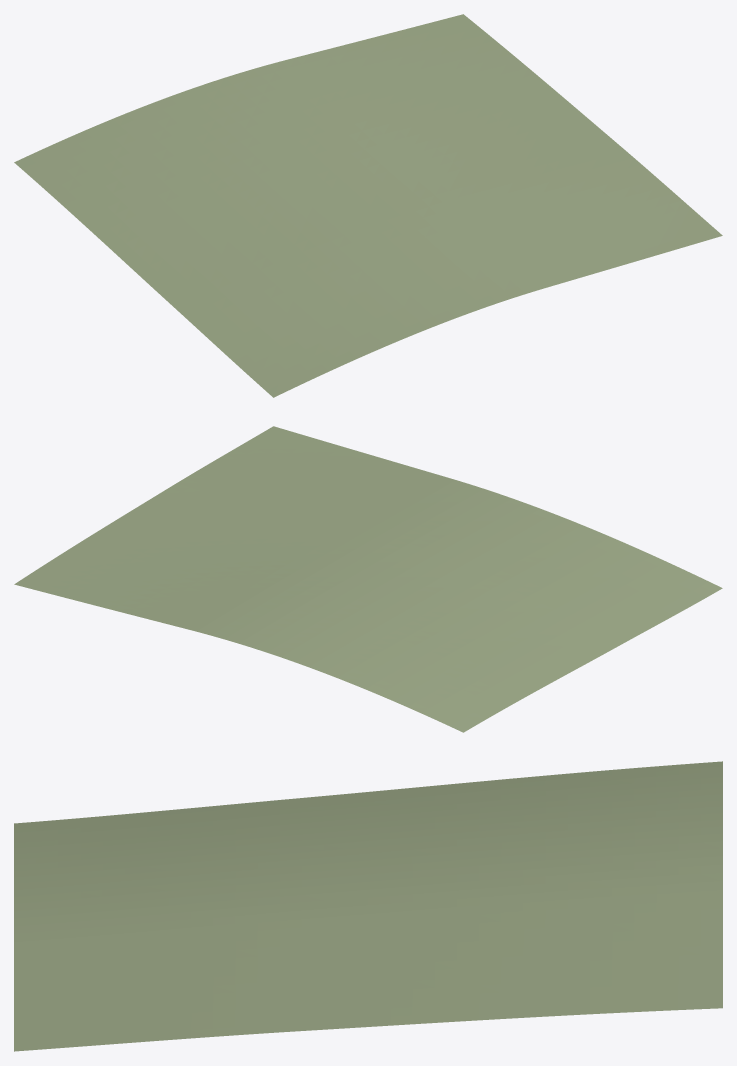
Rendered from desert-24-8.glb.
3 renders of one model, top to bottom at view 1: azimuth 30°, elevation 25°; view 2: azimuth 150°, elevation 25°; view 3: azimuth 270°, elevation 25°, orthographic. The views are drawn at different scales.
Visible parts, largest first — view 1: desert-24-8; view 2: desert-24-8; view 3: desert-24-8.
Boxes of the visible parts, left/top/right/bottom form: desert-24-8: left=14, top=14, right=722, bottom=397; desert-24-8: left=14, top=426, right=722, bottom=732; desert-24-8: left=14, top=761, right=722, bottom=1051.
Bounding box in the file's own units: 512 × 91.49 × 512.
